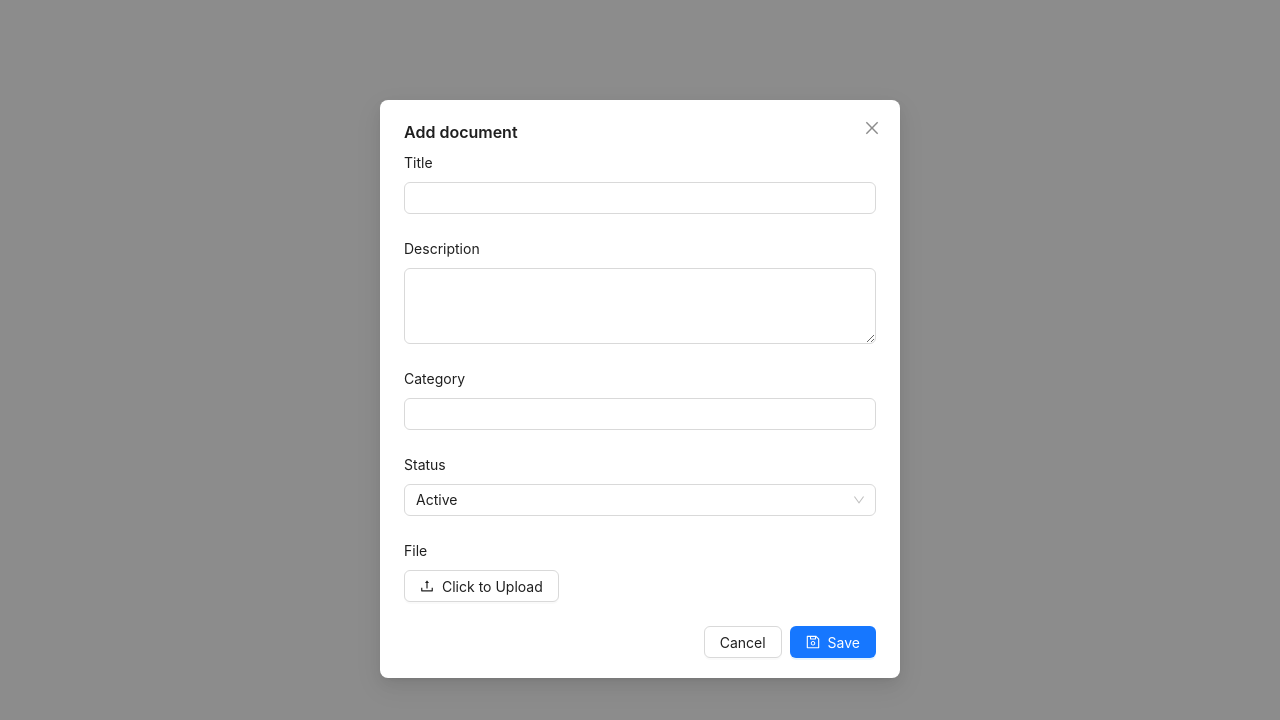
it: DocumentFormModal › requires the mandatory fields
Click the button "Save" at (833, 642), box [790, 626, 876, 658]
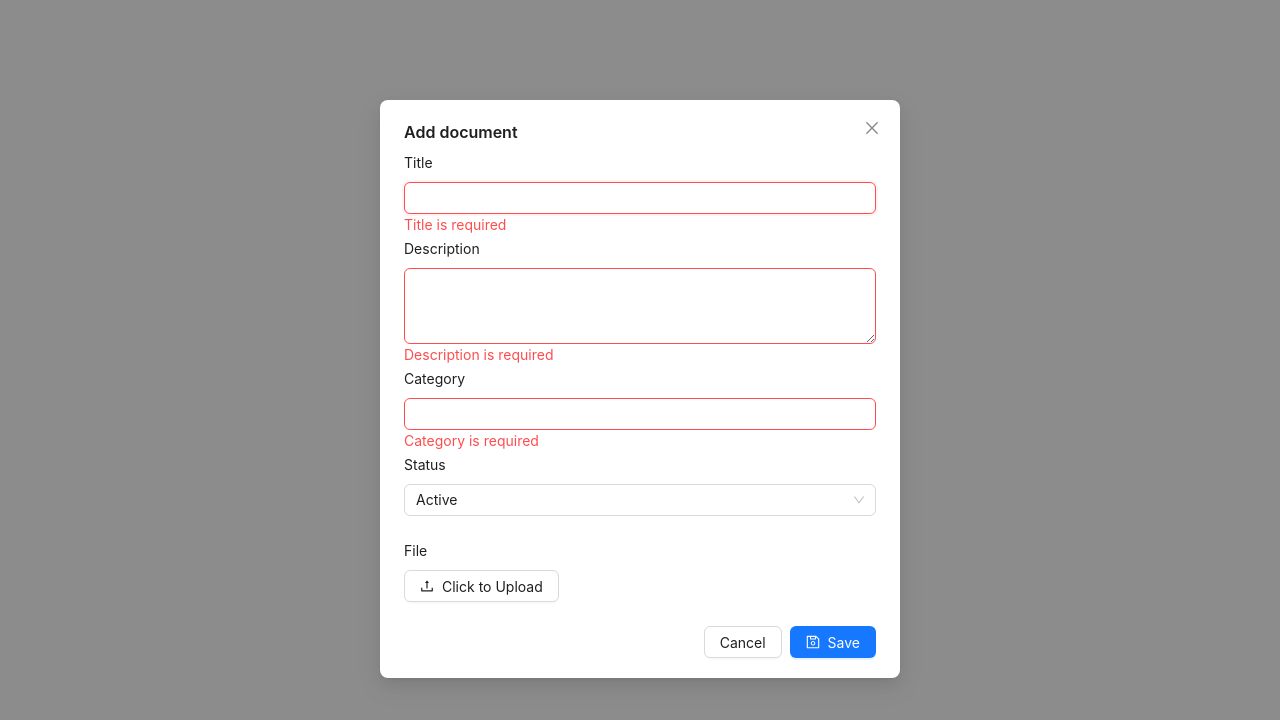
expect the text "Title is required" is shown: met, box [404, 216, 506, 233]
